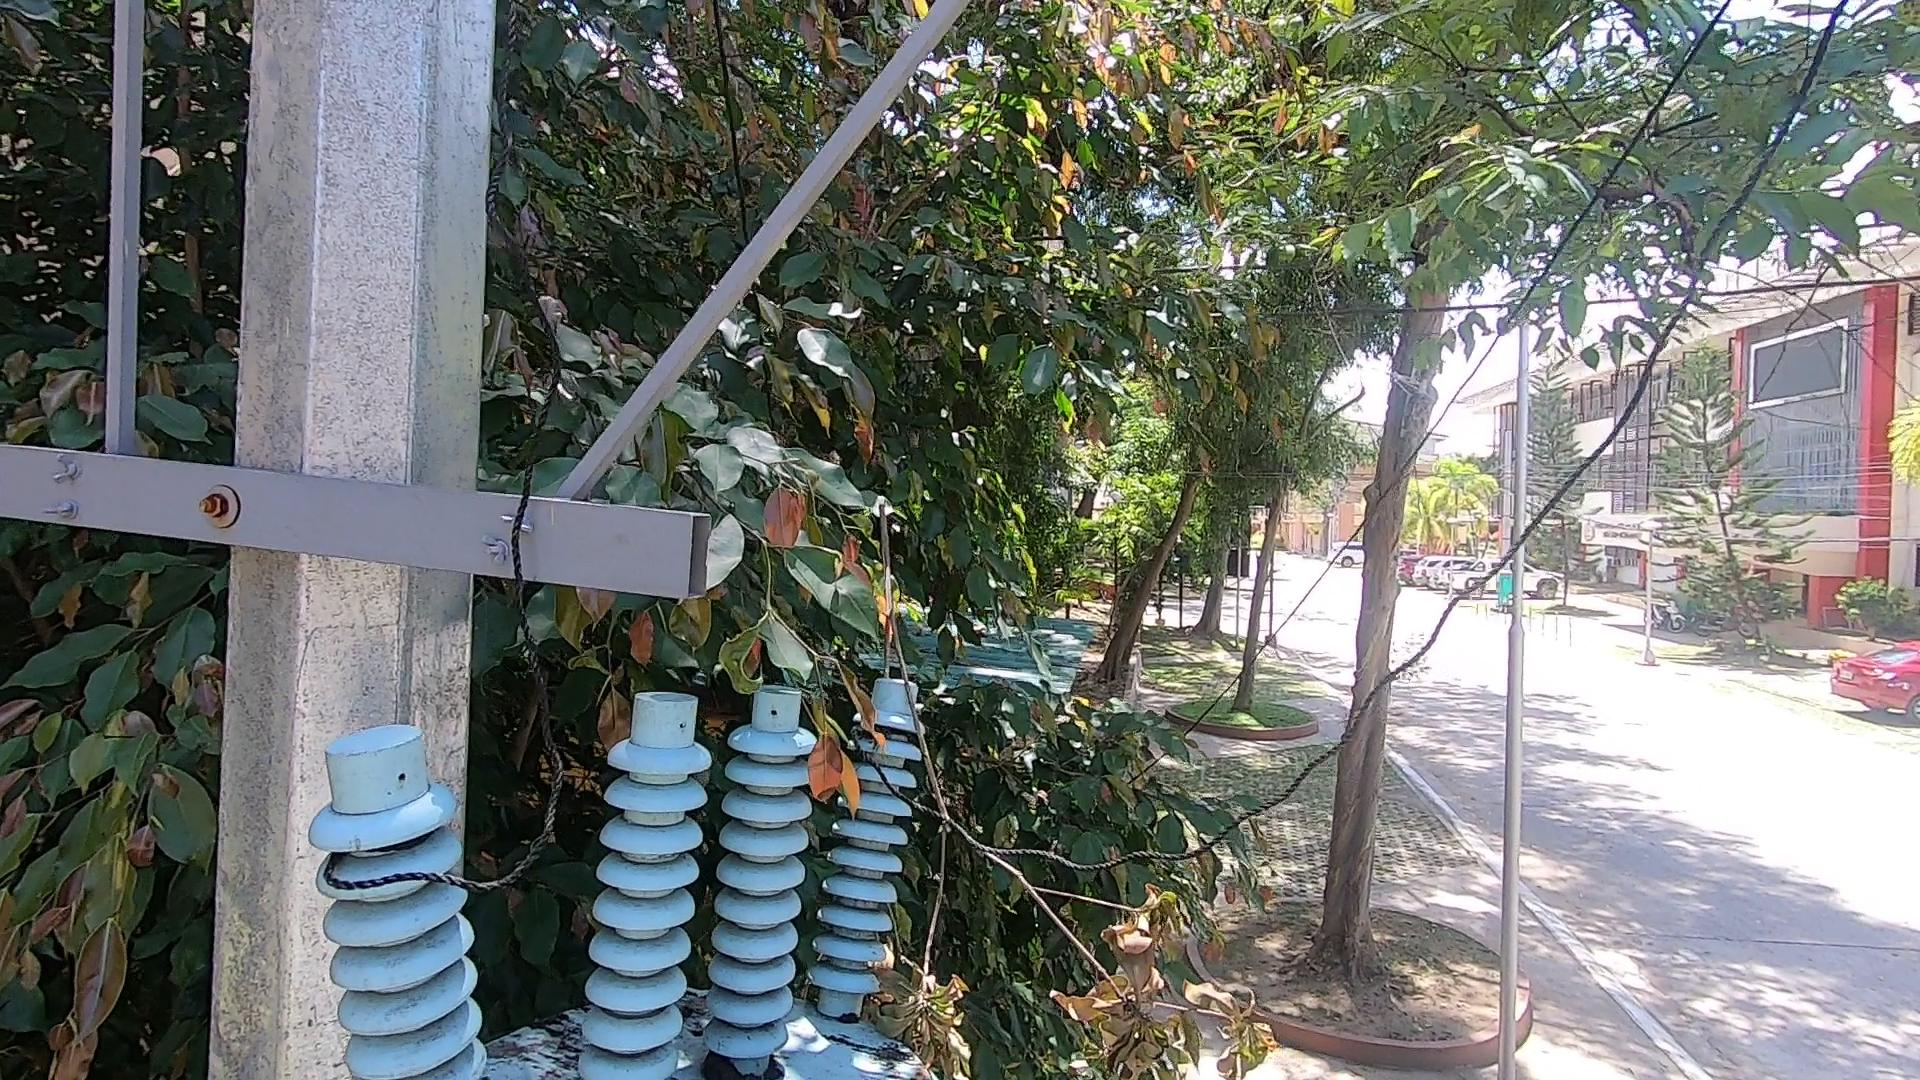branch with leaves: (858, 489, 1286, 1080)
leaf: (700, 1058, 754, 1075), (769, 1059, 800, 1080)
